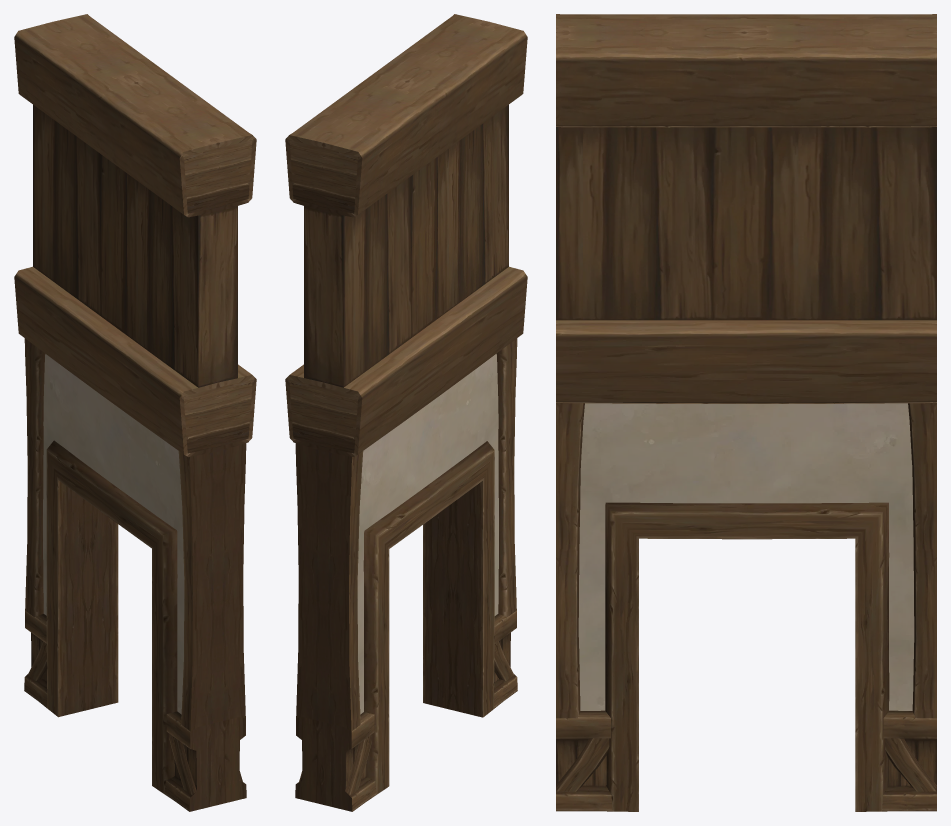
The picture shows the model from 3 angles, left to right: view 1: azimuth 30°, elevation 25°; view 2: azimuth 150°, elevation 25°; view 3: azimuth 270°, elevation 25°; orthographic projection. The views are drawn at different scales.
Size of the model in its own units: 1.35 by 11.05 by 5.
6 materials, 6 textured.
